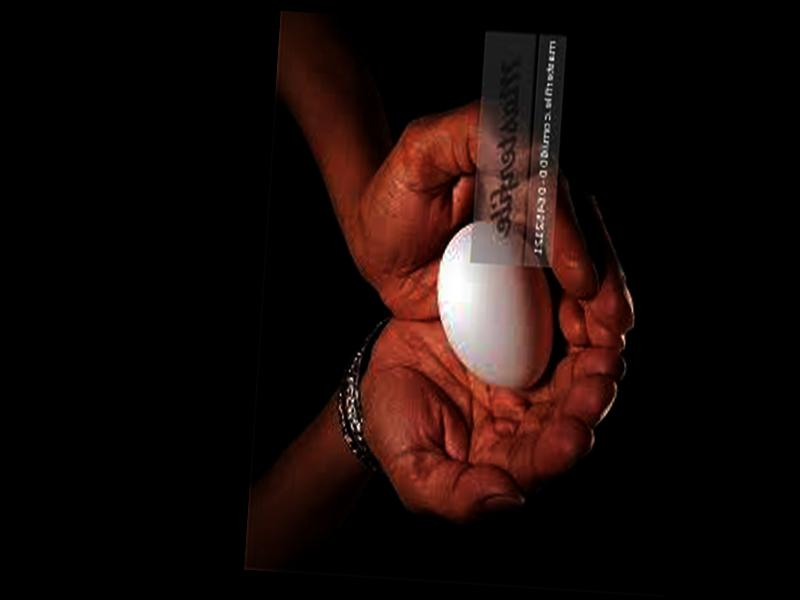Eggs: (432, 223, 562, 393)
